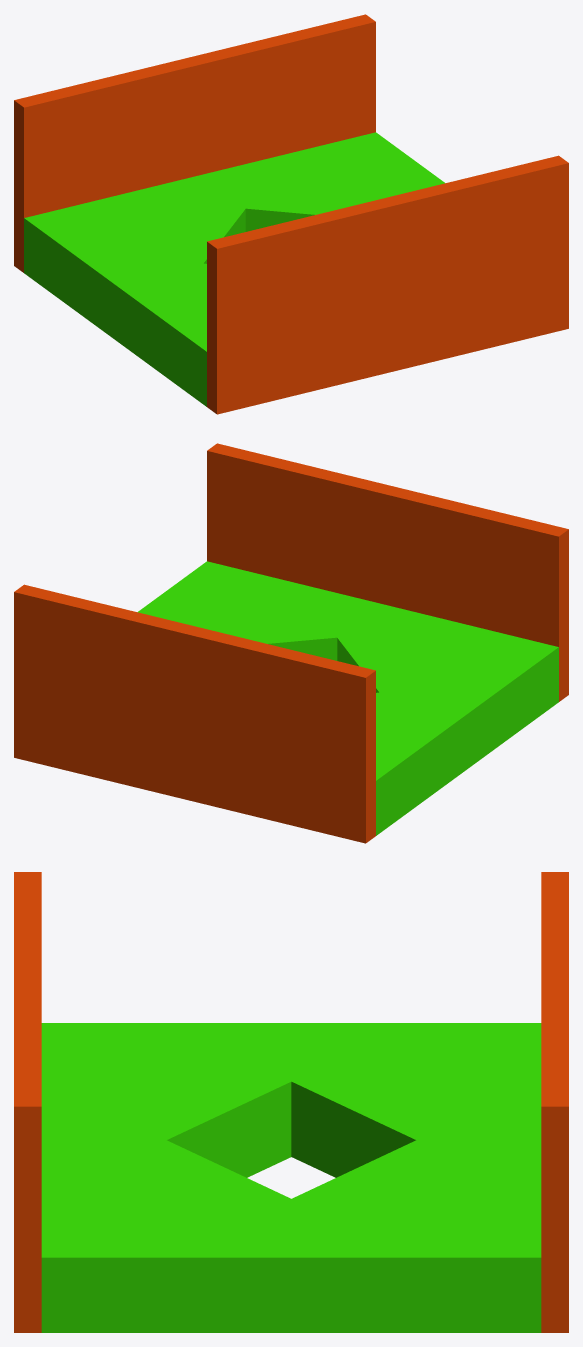
Rendered from hole_narrow.fbx.
The picture shows the model from 3 angles, top to bottom: view 1: azimuth 30°, elevation 25°; view 2: azimuth 150°, elevation 25°; view 3: azimuth 270°, elevation 25°; orthographic projection. The views are drawn at different scales.
Parts seen in each view (by area): view 1: Plane; view 2: Plane; view 3: Plane.
Part boxes in pixels (bbox=[...]): Plane: bbox=[14, 14, 568, 414]; Plane: bbox=[14, 443, 568, 843]; Plane: bbox=[14, 872, 568, 1332].
Size of the model in its own units: 200 by 90 by 200.
